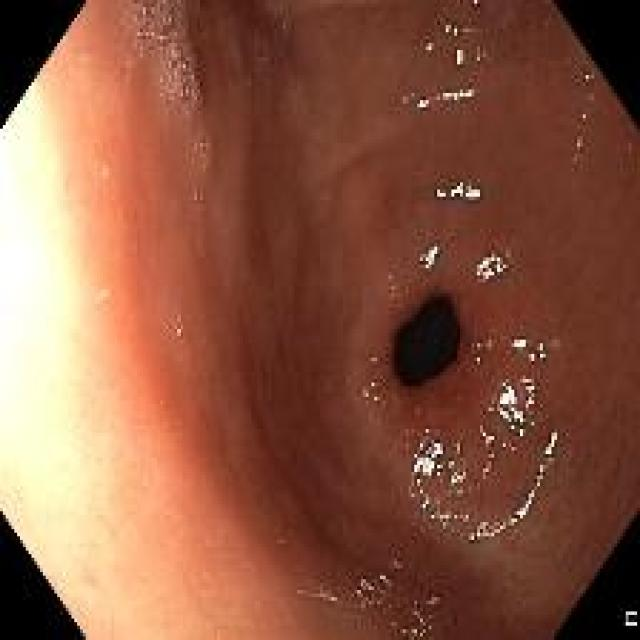bubbles: (160, 45, 202, 110), (134, 2, 188, 46), (473, 43, 493, 63), (446, 486, 465, 502), (443, 19, 459, 37), (365, 594, 383, 610), (378, 575, 393, 592), (418, 624, 435, 638), (500, 437, 515, 452), (198, 136, 210, 154), (173, 322, 186, 338), (432, 489, 445, 505), (426, 594, 440, 607), (451, 510, 462, 526), (257, 49, 267, 65), (127, 55, 137, 70), (583, 71, 594, 84), (472, 4, 485, 15), (393, 558, 402, 573), (275, 19, 286, 31), (192, 190, 202, 203), (225, 9, 236, 19), (356, 599, 364, 612)
contrast: (391, 293, 462, 392)
saturation: (0, 45, 158, 638)
specularity: (488, 377, 538, 438), (408, 438, 446, 479), (510, 490, 539, 527), (475, 252, 506, 282), (466, 523, 506, 539), (420, 244, 440, 271), (543, 432, 559, 457), (528, 343, 547, 364), (532, 463, 547, 489), (476, 426, 495, 443), (440, 89, 475, 97), (448, 180, 464, 196), (448, 471, 466, 485), (512, 336, 526, 350), (419, 497, 431, 513), (454, 46, 463, 66), (436, 513, 448, 528), (416, 97, 430, 108), (465, 189, 480, 198), (378, 573, 390, 584), (434, 186, 445, 197), (454, 440, 464, 452), (451, 26, 459, 37), (414, 477, 421, 486), (448, 459, 454, 469), (444, 24, 451, 32), (485, 339, 491, 346), (427, 43, 432, 51), (331, 594, 336, 602), (477, 343, 483, 349), (430, 513, 435, 520), (476, 357, 481, 364)
